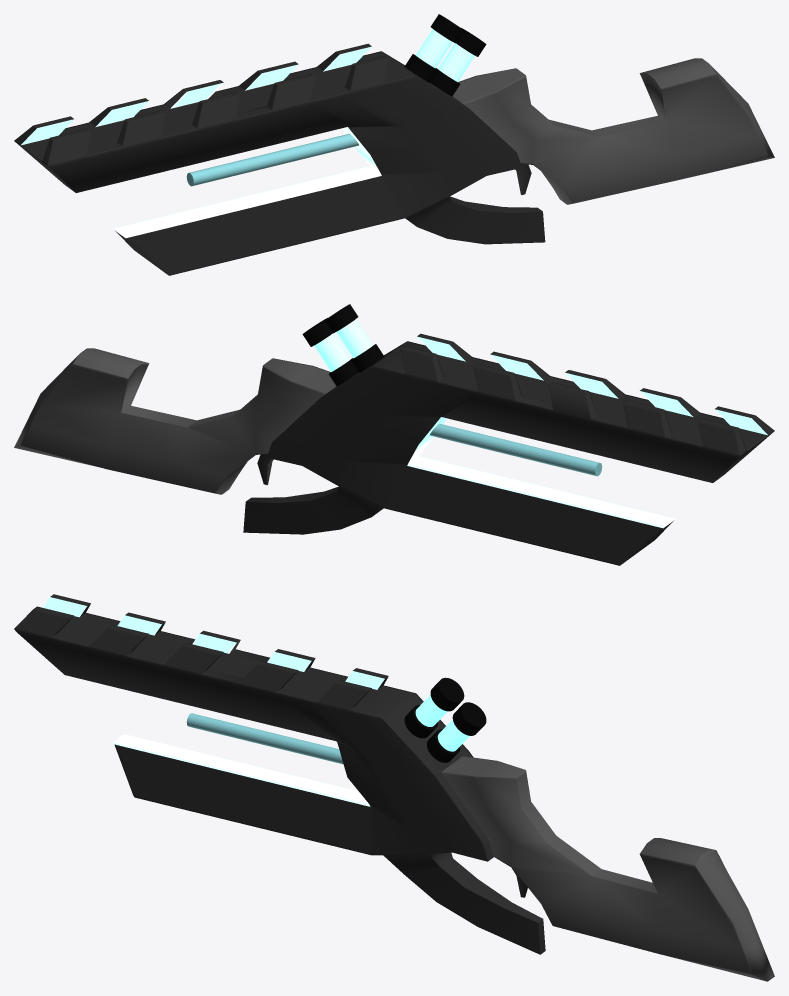
Rendered from Lighting gun.fbx.
3 views of the same model, one above another, from view 1: azimuth 30°, elevation 25°; view 2: azimuth 150°, elevation 25°; view 3: azimuth 330°, elevation 25° (orthographic).
Parts seen in each view (by area): view 1: Cube, Cylinder, Cylinder.001, Cylinder.002; view 2: Cube, Cylinder, Cylinder.001, Cylinder.002; view 3: Cube, Cylinder, Cylinder.002, Cylinder.001.
Part boxes in pixels (x1,y1,x2,y2): Cube: (14, 43, 774, 275); Cylinder: (186, 133, 359, 186); Cylinder.001: (404, 14, 463, 82); Cylinder.002: (430, 28, 486, 96); Cube: (14, 333, 774, 565); Cylinder: (429, 423, 602, 476); Cylinder.001: (325, 304, 384, 372); Cylinder.002: (302, 318, 358, 386); Cube: (14, 594, 774, 981); Cylinder: (186, 713, 343, 764); Cylinder.002: (427, 702, 486, 762); Cylinder.001: (404, 677, 464, 738).
Size of the model in its own units: 420 by 135 by 33.93.
